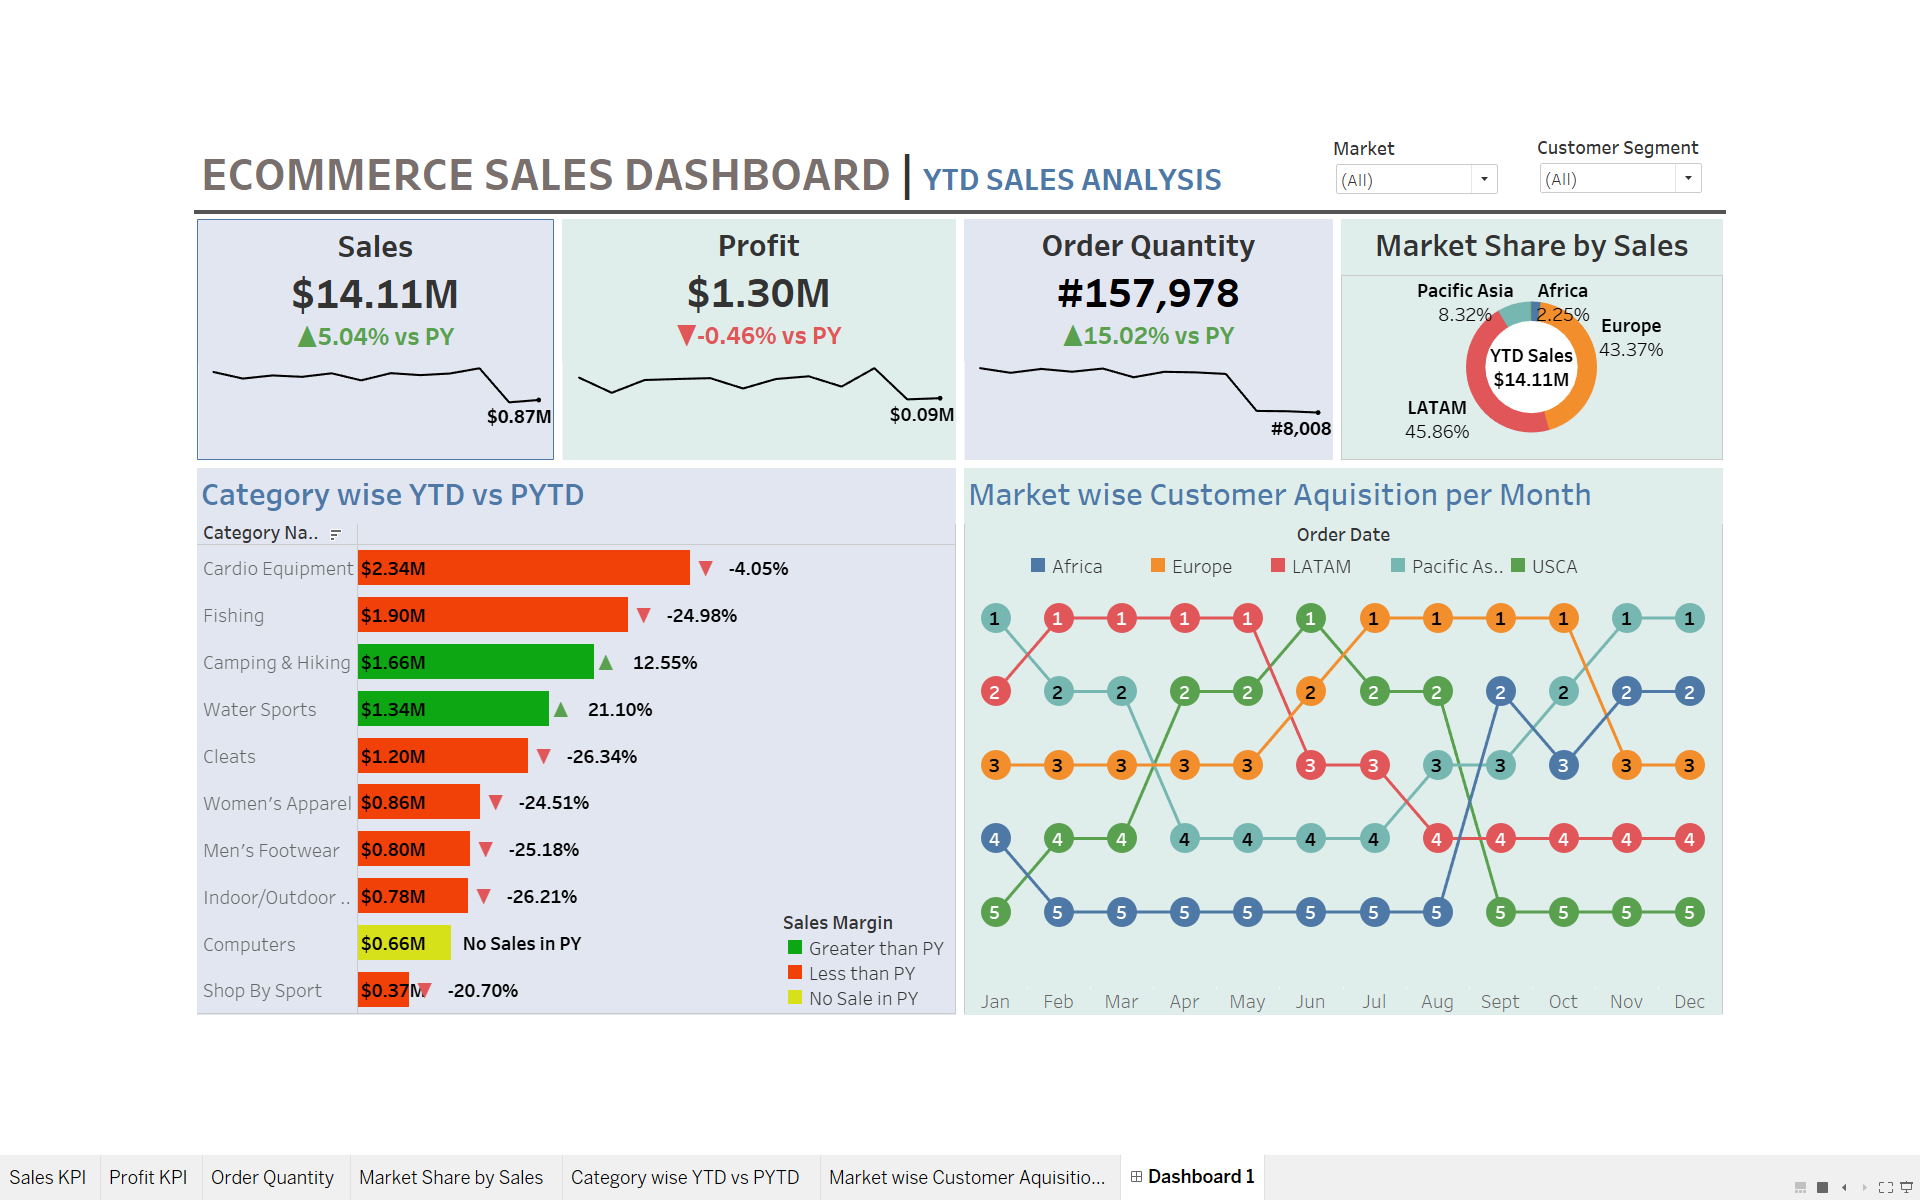

The dashboard page shown, as its layout file describes it:
{"tool":"tableau","page":{"name":"Dashboard 1","canvas":[1550,900],"ordinal":0},"visuals":[{"type":"filter","title":"Sales KPI","param":"[federated.1d7uck40pti98g14xdvrk08proyn].[none:Customer Segment:nk]","box":[1352,7,168,69]},{"type":"title","box":[8,8,1534,74]},{"type":"filter","title":"Sales KPI","param":"[federated.1d7uck40pti98g14xdvrk08proyn].[none:Market:nk]","box":[1148,8,168,72]},{"type":"blank","box":[8,82,1534,6]},{"type":"worksheet","title":"Sales KPI","mark":"Automatic","rows":["Sales"],"cols":["Order Date"],"box":[8,88,365,249]},{"type":"worksheet","title":"Profit KPI","mark":"Automatic","rows":["Profit Per Order"],"cols":["Order Date"],"box":[373,88,402,249]},{"type":"worksheet","title":"Order Quantity","mark":"Automatic","rows":["Order Quantity"],"cols":["Order Date"],"box":[775,88,377.3,249]},{"type":"worksheet","title":"Market Share by Sales","mark":"Pie","cols":["Calculation_2234629889808777234","Calculation_2234629889808846867"],"box":[1152.3,88,389.7,249]},{"type":"worksheet","title":"Category wise YTD vs PYTD","mark":"Bar","rows":["Category Name"],"cols":["Calculation_2234629889816760340","Calculation_2234629889816760340"],"box":[8,337,767,555]},{"type":"worksheet","title":"Market wise Customer Aquisition per Month","mark":"Automatic","cols":["Order Date"],"box":[775,337,767,555]},{"type":"legend","title":"Market wise Customer Aquisition per Month","param":"[federated.1d7uck40pti98g14xdvrk08proyn].[none:Market:nk]","box":[841,426,676,27]},{"type":"legend","title":"Category wise YTD vs PYTD","param":"[federated.1d7uck40pti98g14xdvrk08proyn].[usr:Calculation_2234629889836527639:nk","box":[598,782,167,101]}]}

Visuals, with their boxes on the page's 1550x900 design canvas (x1, y1, x2, y2). These are canvas units, not pixel positions in the 1920x1200 screenshot, which may show the page scaled, cropped or inside an application window:
"Sales KPI" filter: 1352, 7, 1520, 76
title: 8, 8, 1542, 82
"Sales KPI" filter: 1148, 8, 1316, 80
blank: 8, 82, 1542, 88
"Sales KPI" worksheet: 8, 88, 373, 337
"Profit KPI" worksheet: 373, 88, 775, 337
"Order Quantity" worksheet: 775, 88, 1152, 337
"Market Share by Sales" worksheet (Pie marks): 1152, 88, 1542, 337
"Category wise YTD vs PYTD" worksheet (Bar marks): 8, 337, 775, 892
"Market wise Customer Aquisition per Month" worksheet: 775, 337, 1542, 892
"Market wise Customer Aquisition per Month" legend: 841, 426, 1517, 453
"Category wise YTD vs PYTD" legend: 598, 782, 765, 883
